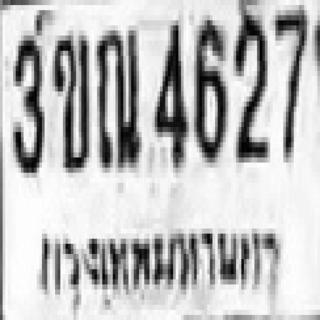A02: (50, 30, 87, 168)
A19: (95, 25, 139, 168)
N02: (232, 8, 266, 155)
N03: (10, 30, 42, 173)
N04: (152, 15, 186, 163)
N06: (193, 15, 224, 157)
N07: (274, 2, 306, 155)
P04: (32, 216, 279, 302)
